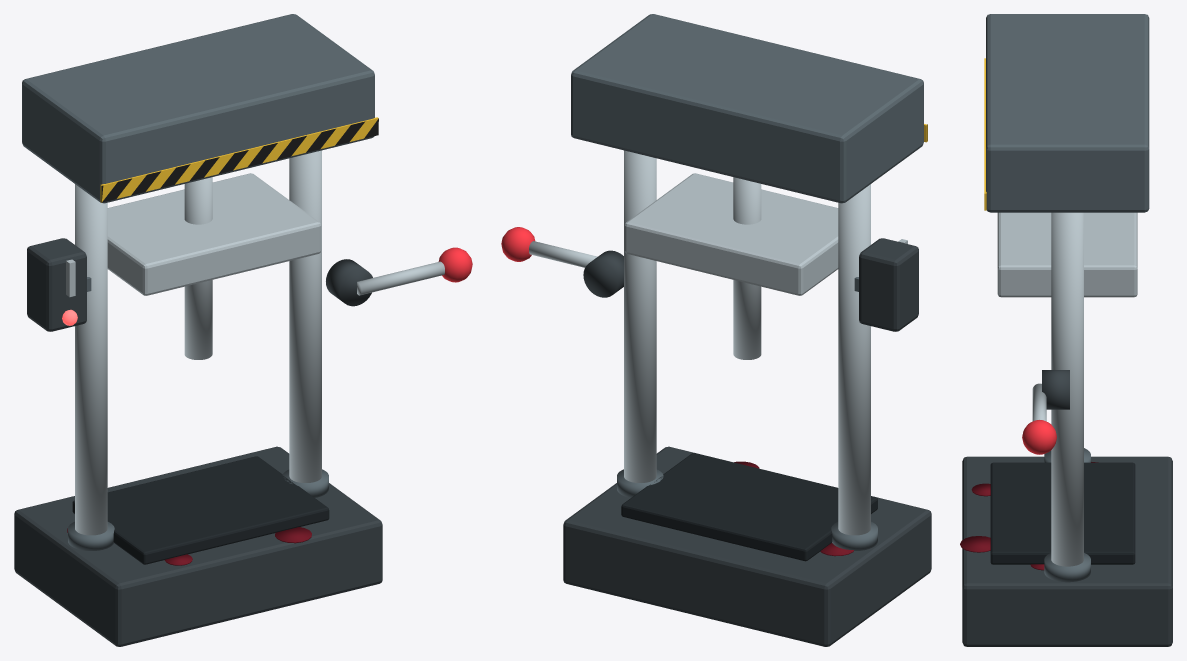
File: press.glb
3 views of the same model, side by side, from view 1: azimuth 30°, elevation 25°; view 2: azimuth 150°, elevation 25°; view 3: azimuth 270°, elevation 25° (orthographic).
Visible parts, largest first — view 1: top, base, plate, slot, pillar, pillar.001, switch_box, rod, haz_band, haz_str, lever_hub, lever_rod (+2 smaller); view 2: top, base, plate, slot, pillar, pillar.001, switch_box, rod, lever_hub, lever_rod, lever_knob, pillar_foot; view 3: top, base, slot, pillar.001, plate, lever_hub, lever_knob, pillar_foot.001, lever_rod, stain1, haz_band.
Part boxes in pixels (box(x1,y1,x2,y2)): top: box(22, 14, 374, 203); base: box(14, 446, 382, 646); plate: box(107, 173, 321, 295); slot: box(72, 456, 329, 564); pillar: box(75, 184, 107, 535); pillar.001: box(289, 150, 321, 482); switch_box: box(27, 238, 86, 331); rod: box(184, 177, 212, 359); haz_band: box(100, 117, 378, 202); haz_str: box(101, 118, 378, 202); lever_hub: box(326, 259, 372, 306); lever_rod: box(357, 261, 444, 295); top: box(571, 14, 923, 203); base: box(563, 446, 931, 646); plate: box(624, 173, 838, 295); slot: box(621, 453, 877, 561); pillar: box(838, 184, 870, 535); pillar.001: box(624, 150, 656, 482); switch_box: box(859, 238, 918, 331); rod: box(733, 177, 761, 359); lever_hub: box(583, 250, 623, 297); lever_rod: box(529, 241, 597, 267); lever_knob: box(501, 227, 535, 261); pillar_foot: box(831, 521, 877, 550); top: box(986, 14, 1149, 212); base: box(962, 456, 1172, 646); slot: box(990, 462, 1135, 564); pillar.001: box(1051, 212, 1083, 566); plate: box(997, 212, 1137, 297); lever_hub: box(1042, 370, 1069, 409); lever_knob: box(1022, 420, 1056, 454); pillar_foot.001: box(1044, 553, 1090, 582); lever_rod: box(1032, 383, 1046, 421); stain1: box(960, 536, 990, 552); haz_band: box(984, 58, 986, 210).
Bounding box in the file's own units: 2.08 × 2.38 × 0.91.
